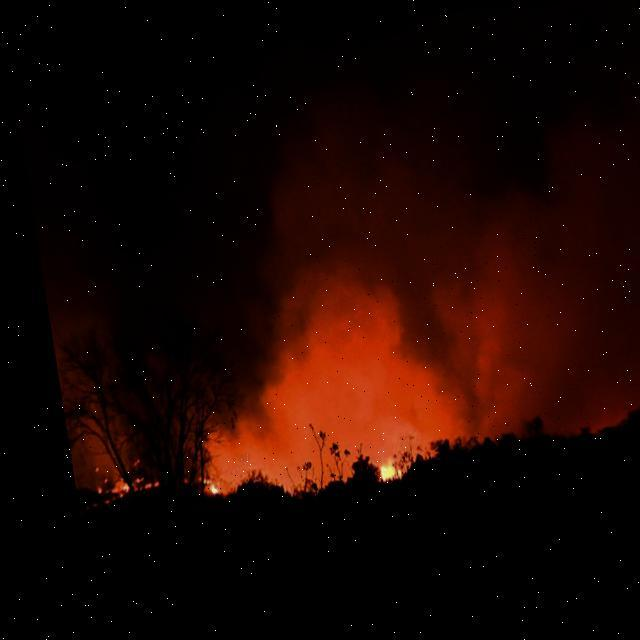Fire: (63, 462, 143, 512), (364, 462, 388, 488), (184, 474, 204, 499)
